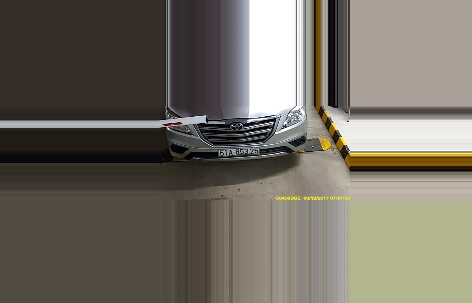plate: (215, 145, 262, 158)
